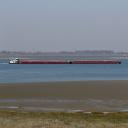tugboat: (9, 57, 22, 67)
